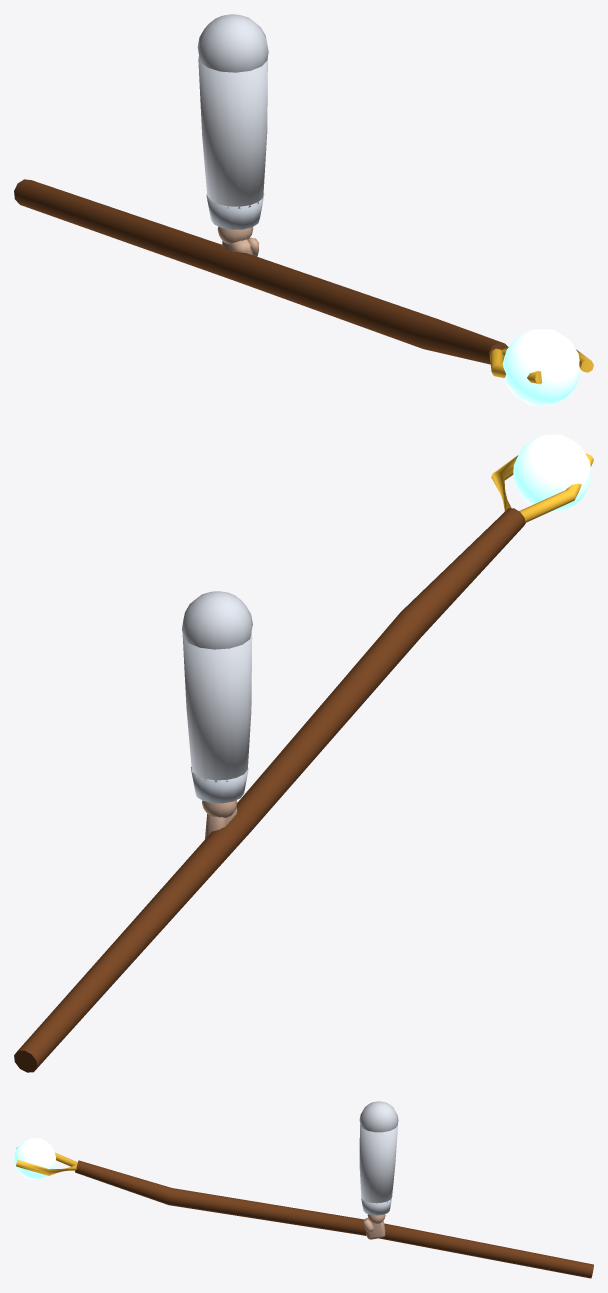
File: coder_forearm_r_staff.glb
3 renders of one model, top to bottom at view 1: azimuth 30°, elevation 25°; view 2: azimuth 150°, elevation 25°; view 3: azimuth 270°, elevation 25°, orthographic. The views are drawn at different scales.
Parts seen in each view (by area): view 1: CoderPart; view 2: CoderPart; view 3: CoderPart.
Part boxes in pixels (x1=…): CoderPart: x1=14, y1=14, x2=593, y2=405; CoderPart: x1=14, y1=434, x2=593, y2=1072; CoderPart: x1=14, y1=1101, x2=593, y2=1278.
Size of the model in its own units: 0.1275 by 0.4812 by 1.43.
